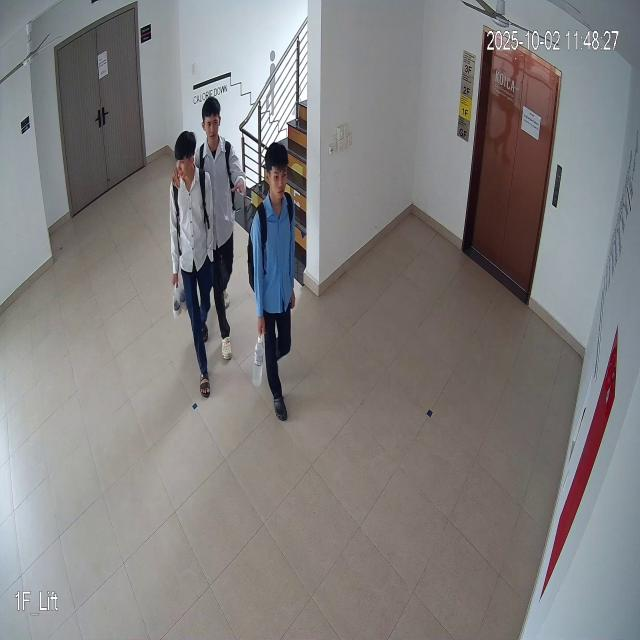face: (264, 141, 294, 207), (170, 130, 196, 190)
